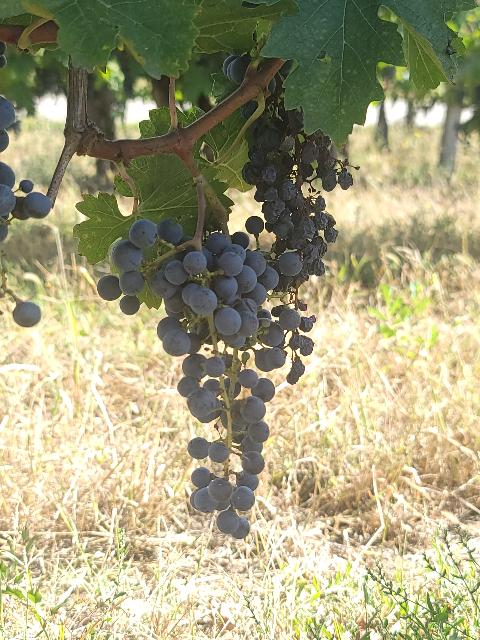grapes: (98, 219, 314, 539), (241, 89, 352, 285)
